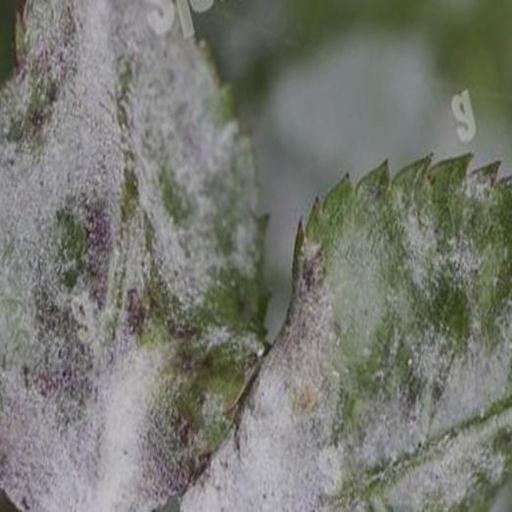powdery_mildew: (0, 0, 266, 512), (176, 154, 512, 512)
